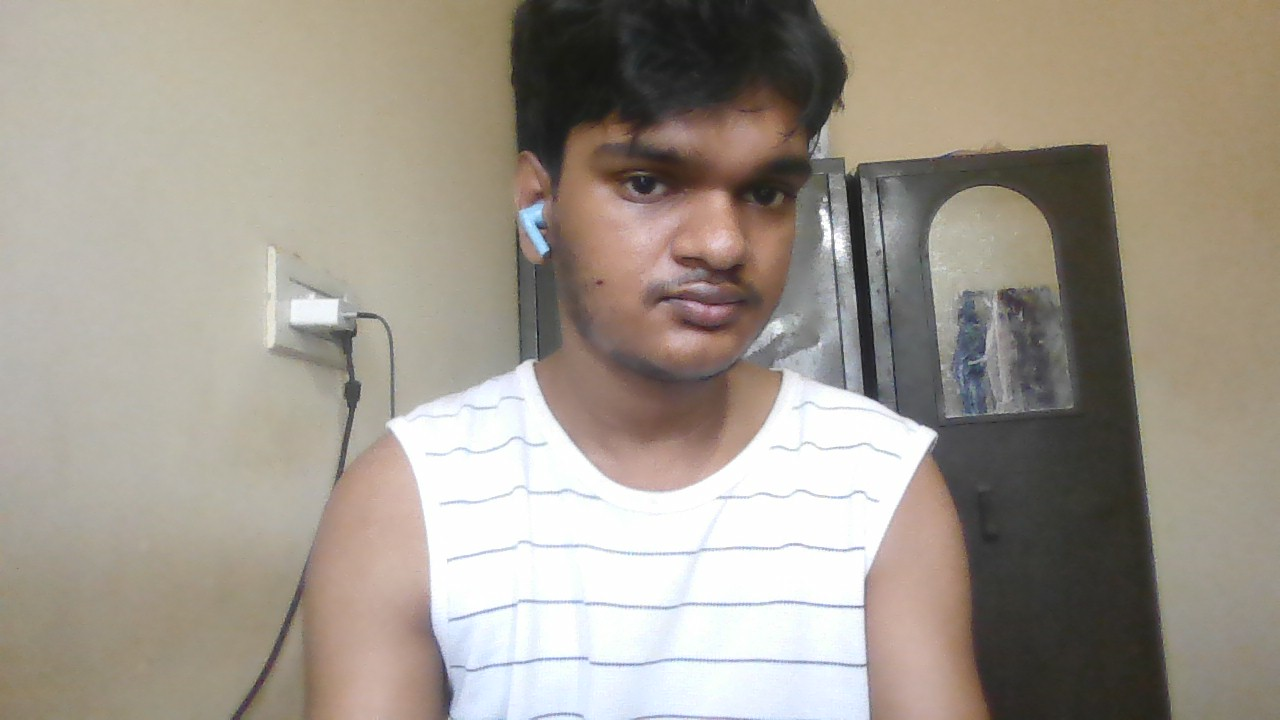earphone: (519, 201, 552, 255)
